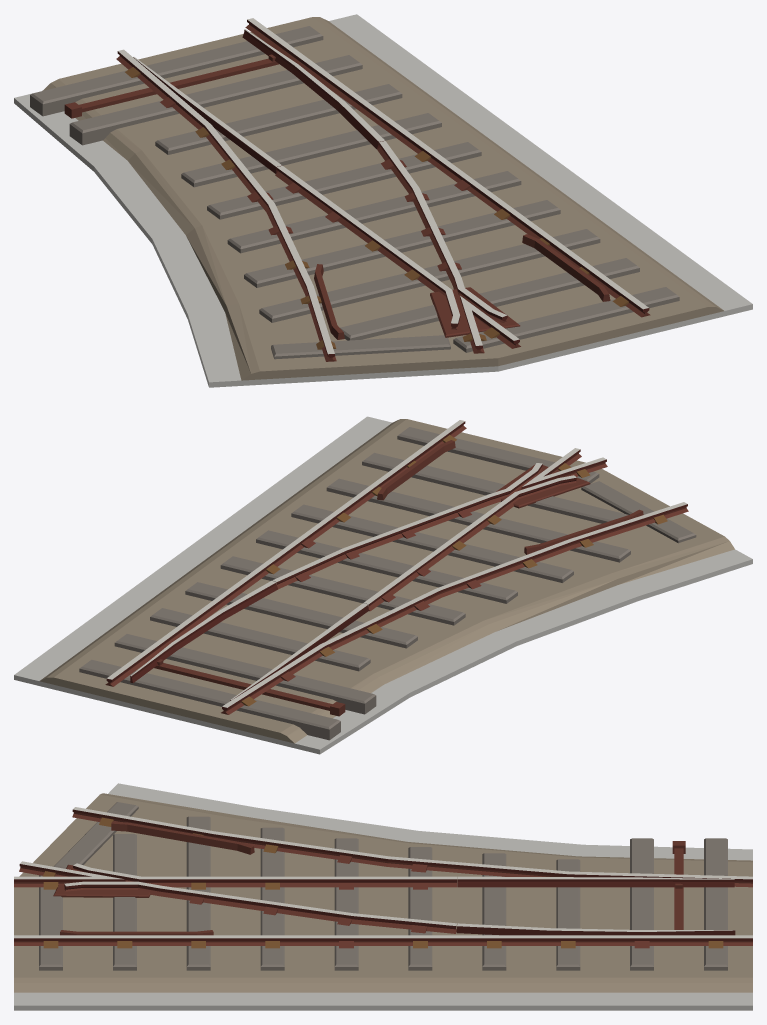
Rendered from set-of-points-610126.glb.
3 renders of one model, top to bottom at view 1: azimuth 30°, elevation 25°; view 2: azimuth 150°, elevation 25°; view 3: azimuth 270°, elevation 25°, orthographic. The views are drawn at different scales.
Parts seen in each view (by area): view 1: set-of-points-body, blade-curved-mesh, stretcher-mesh, blade-straight-mesh; view 2: set-of-points-body, blade-curved-mesh, stretcher-mesh, blade-straight-mesh; view 3: set-of-points-body, blade-straight-mesh, blade-curved-mesh, stretcher-mesh.
Boxes of the visible parts, <box> form: set-of-points-body: <box>14,14,752,387</box>; blade-curved-mesh: <box>242,29,385,149</box>; stretcher-mesh: <box>64,54,278,118</box>; blade-straight-mesh: <box>133,57,282,173</box>; set-of-points-body: <box>14,416,752,754</box>; blade-curved-mesh: <box>130,580,277,682</box>; stretcher-mesh: <box>154,659,345,716</box>; blade-straight-mesh: <box>230,603,368,700</box>; set-of-points-body: <box>14,783,752,1010</box>; blade-straight-mesh: <box>457,876,734,887</box>; blade-curved-mesh: <box>457,923,735,935</box>; stretcher-mesh: <box>672,841,685,929</box>.
Bounding box in the file's own units: 5.69 × 0.3 × 8.
